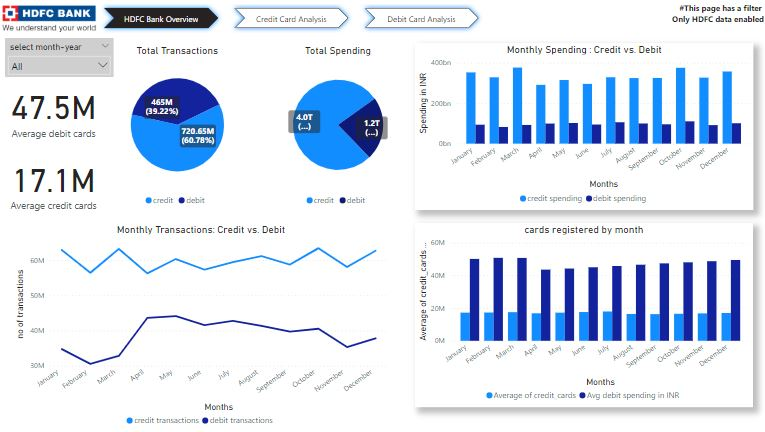

The page's visual inventory and layout, read from the dashboard file:
{"tool":"powerbi","page":{"name":"HDFC Bank Overview","canvas":[1280,720],"ordinal":0},"visuals":[{"type":"card","fields":{"Values":["Avg(RBI_22-23.credit_cards)"]},"box":[0,247.7,181.4,112.3],"z":0},{"type":"card","fields":{"Values":["Avg(RBI_22-23.debit_cards)"]},"box":[0,128.2,181.4,109.4],"z":1000},{"type":"lineChart","title":"Monthly Transactions: Credit vs. Debit","fields":{"Category":["RBI_22-23.month_year.Variation.Date Hierarchy.Year","RBI_22-23.month_year.Variation.Date Hierarchy.Month"],"Y":["RBI_22-23.credit transactions","RBI_22-23.debit transactions"]},"box":[21.7,371.7,630,348.3],"z":2000},{"type":"clusteredColumnChart","title":"Monthly Spending : Credit vs. Debit","fields":{"Category":["RBI_22-23.month_year.Variation.Date Hierarchy.Month"],"Y":["RBI_22-23.credit spending","RBI_22-23.debit spending"]},"box":[692.6,72.4,564.3,278],"z":3000},{"type":"pieChart","title":"Total Transactions","fields":{"Y":["RBI_22-23.credit card transactions","RBI_22-23.debit card transactions"]},"box":[157.9,72.4,278,278],"z":4000},{"type":"pieChart","title":"Total Spending","fields":{"Y":["RBI_22-23.credit spending","RBI_22-23.debit spending"]},"box":[436,72.4,256.7,278],"z":5000},{"type":"clusteredColumnChart","title":"cards registered by month","fields":{"Category":["RBI_22-23.month_year.Variation.Date Hierarchy.Month"],"Y":["Avg(RBI_22-23.credit_cards)","Avg(RBI_22-23.debit_cards)"]},"box":[693.3,371.7,563.3,306.7],"z":6000},{"type":"slicer","fields":{"Values":["RBI_22-23.month_year"]},"box":[10.1,63.4,181.4,64.8],"z":7000},{"type":"textbox","box":[1108.3,0,171.7,48.3],"z":8000},{"type":"pageNavigator","box":[166.7,5,643.3,50],"z":9000},{"type":"image","box":[0,1.7,166.7,58.3],"z":10000}]}

Visuals, with their boxes in screenshot pixels (x1, y1, x2, y2), scaled from the page's 1280x720 canvas onto the 765x432 screenshot:
card - Avg(RBI_22-23.credit_cards): (left=0, top=149, right=108, bottom=216)
card - Avg(RBI_22-23.debit_cards): (left=0, top=77, right=108, bottom=143)
"Monthly Transactions: Credit vs. Debit" lineChart: (left=13, top=223, right=389, bottom=431)
"Monthly Spending : Credit vs. Debit" clusteredColumnChart: (left=414, top=43, right=751, bottom=210)
"Total Transactions" pieChart: (left=94, top=43, right=261, bottom=210)
"Total Spending" pieChart: (left=261, top=43, right=414, bottom=210)
"cards registered by month" clusteredColumnChart: (left=414, top=223, right=751, bottom=407)
slicer - RBI_22-23.month_year: (left=6, top=38, right=114, bottom=77)
textbox: (left=662, top=0, right=764, bottom=29)
pageNavigator: (left=100, top=3, right=484, bottom=33)
image: (left=0, top=1, right=100, bottom=36)
